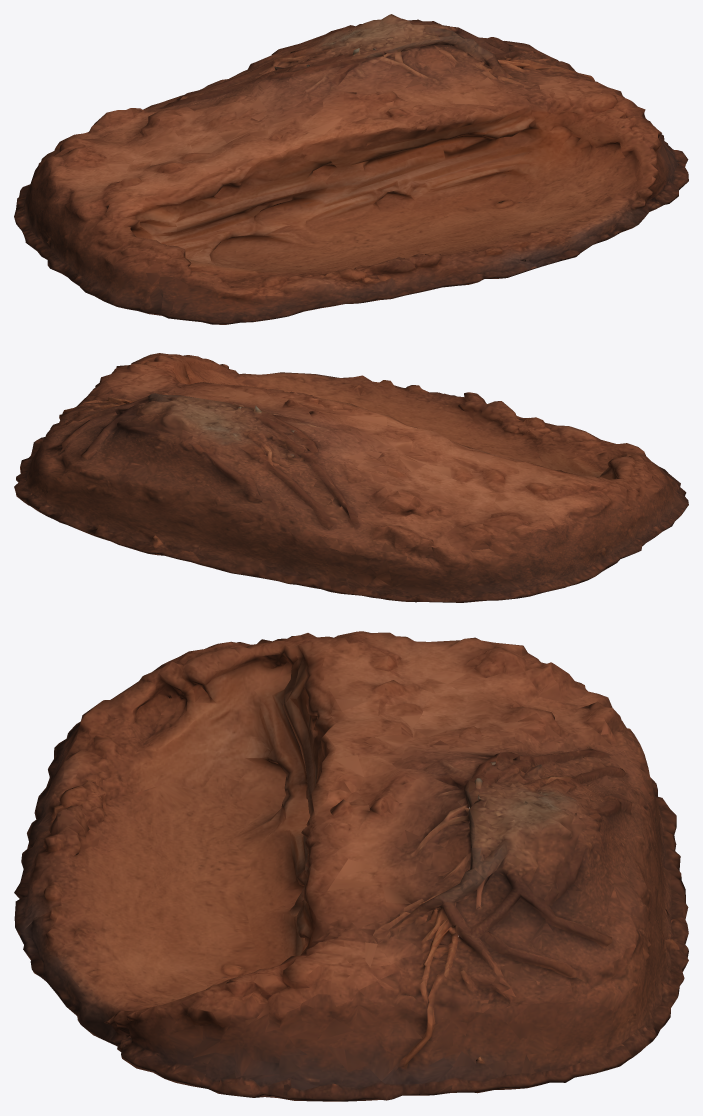
File: clay-20-lod0.gltf
3 renders of one model, top to bottom at view 1: azimuth 30°, elevation 25°; view 2: azimuth 150°, elevation 25°; view 3: azimuth 270°, elevation 25°, orthographic. The views are drawn at different scales.
Parts seen in each view (by area): view 1: clay stage 1 L0; view 2: clay stage 1 L0; view 3: clay stage 1 L0.
Part boxes in pixels (<box>): clay stage 1 L0: <box>14,14,688,324</box>; clay stage 1 L0: <box>14,353,688,602</box>; clay stage 1 L0: <box>14,631,688,1101</box>.
Bounding box in the file's own units: 1.76 × 0.3133 × 1.21.
Materials: 1 (1 with a texture image).
